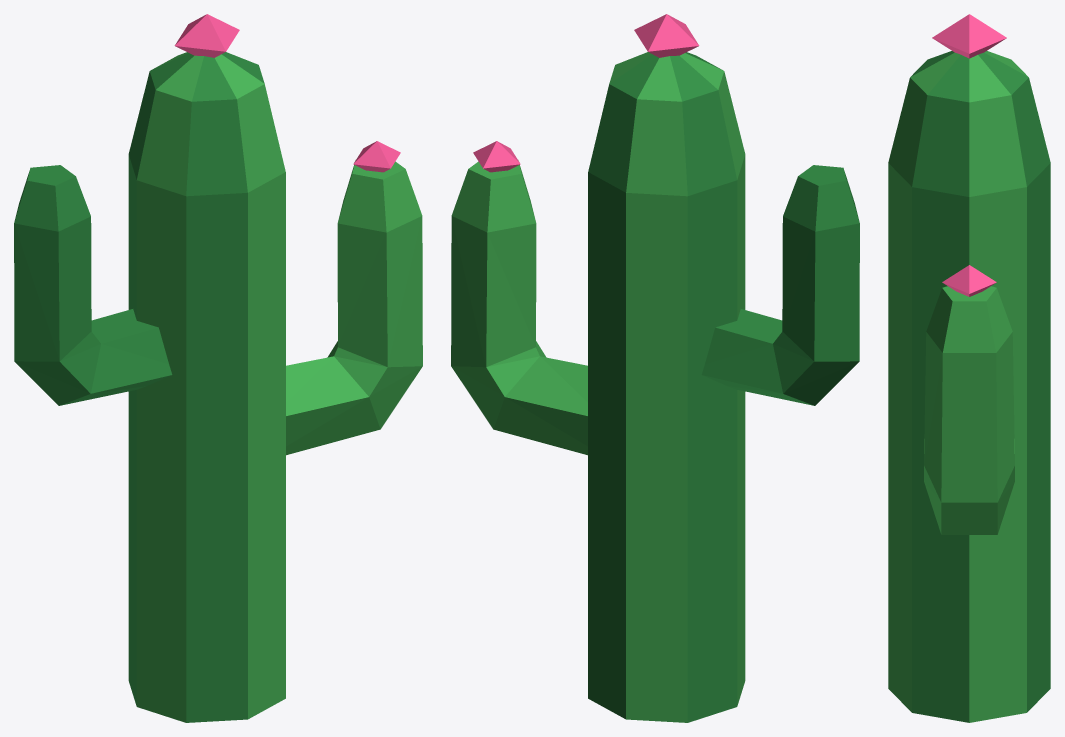
The model's file is cactus.glb.
The picture shows the model from 3 angles, left to right: view 1: azimuth 30°, elevation 25°; view 2: azimuth 150°, elevation 25°; view 3: azimuth 270°, elevation 25°; orthographic projection.
Visible parts, largest first — view 1: cactus; view 2: cactus; view 3: cactus.
Boxes of the visible parts, <box> form: cactus: <box>14,14,422,722</box>; cactus: <box>451,14,859,722</box>; cactus: <box>888,14,1050,722</box>.
Bounding box in the file's own units: 0.3058 × 0.5 × 0.1091.
